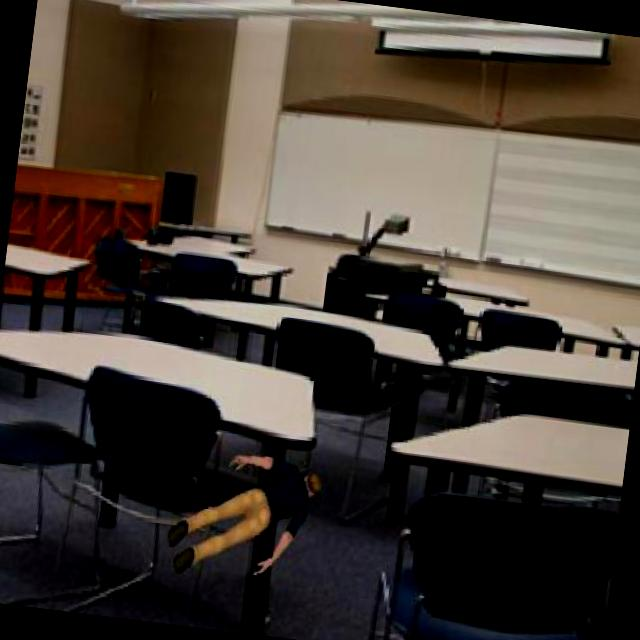Person: (160, 442, 329, 594)
